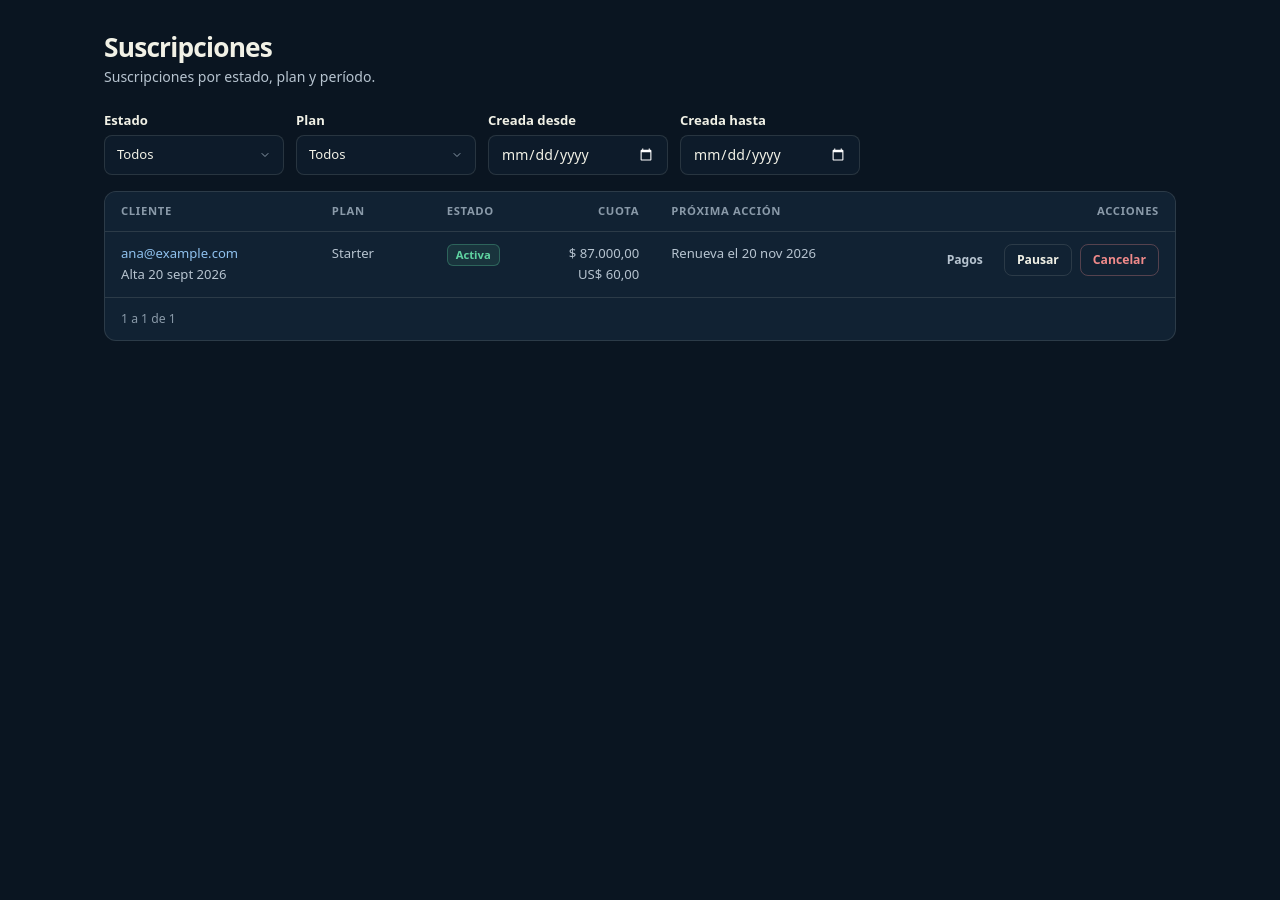
Test: buttons by role › says the cancellation stays asked for when Mercado Pago does not confirm it and reloads
The image size is (1280, 900).
Click the button with aria-label "Cancelar la suscripción" at (1119, 260), box [1080,244,1159,276]
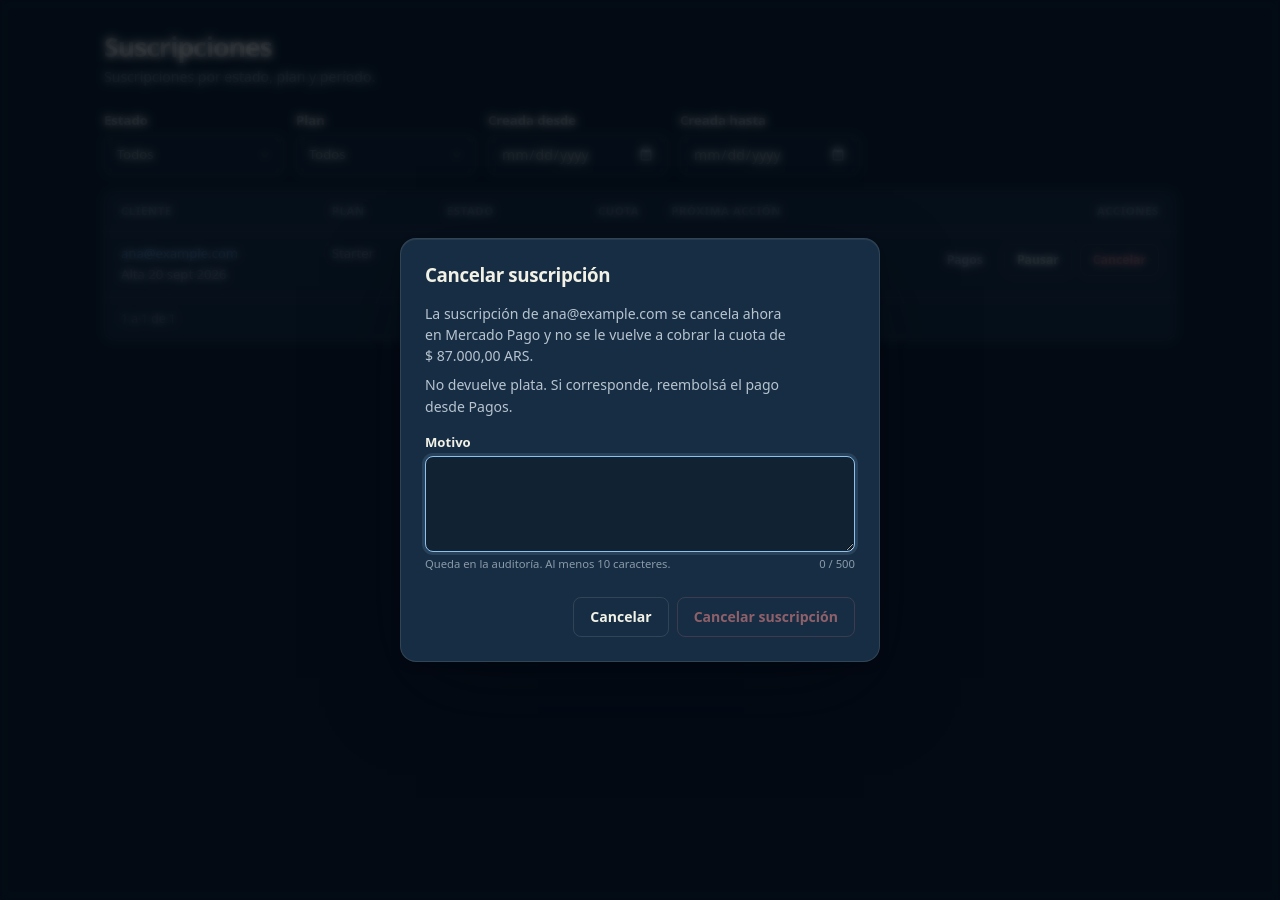
Type "Pedido del cliente por mail" into the text box labelled "Motivo" at (640, 504), box [425,456,855,552]
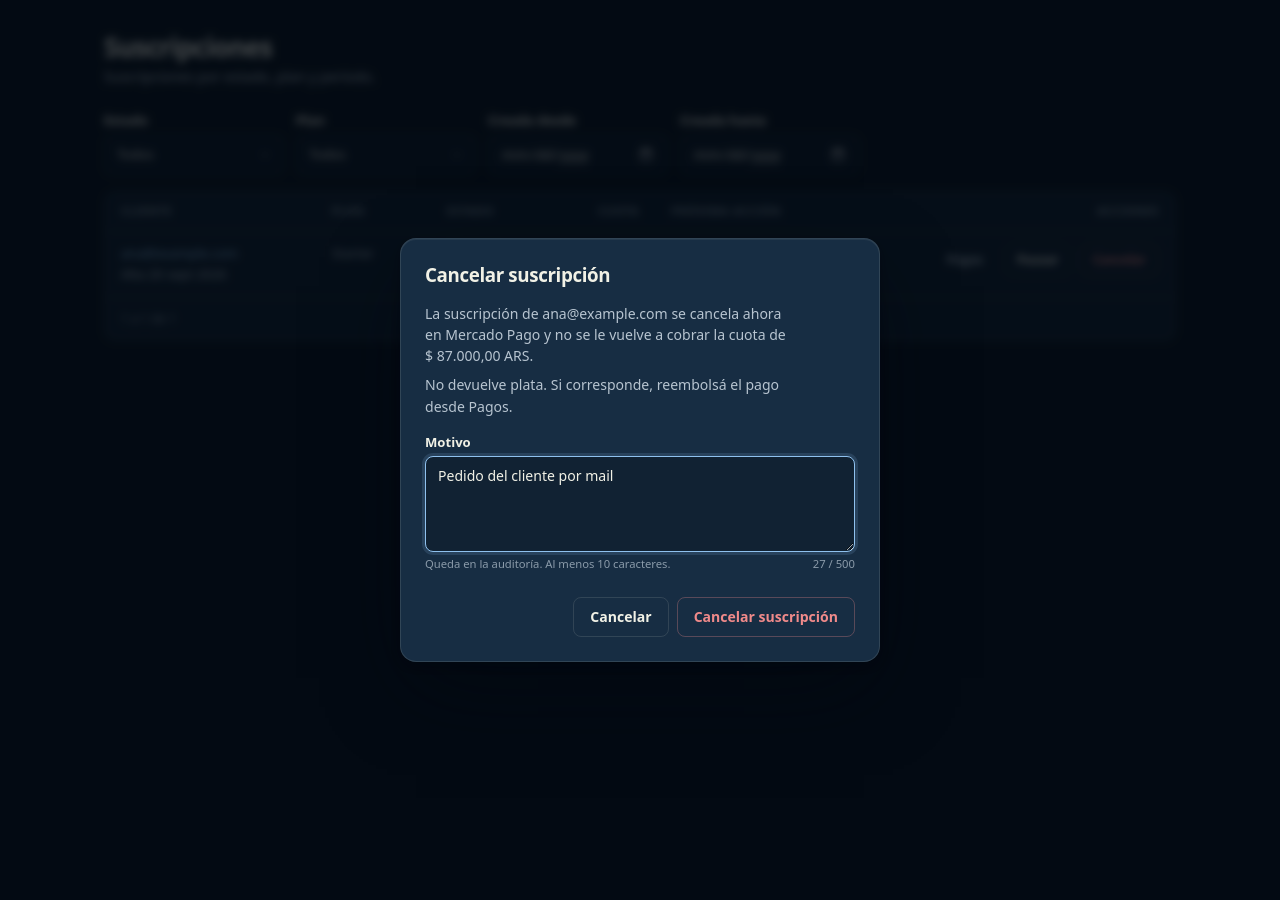
Click the button "Cancelar suscripción" at (766, 617), box [677,597,855,637]
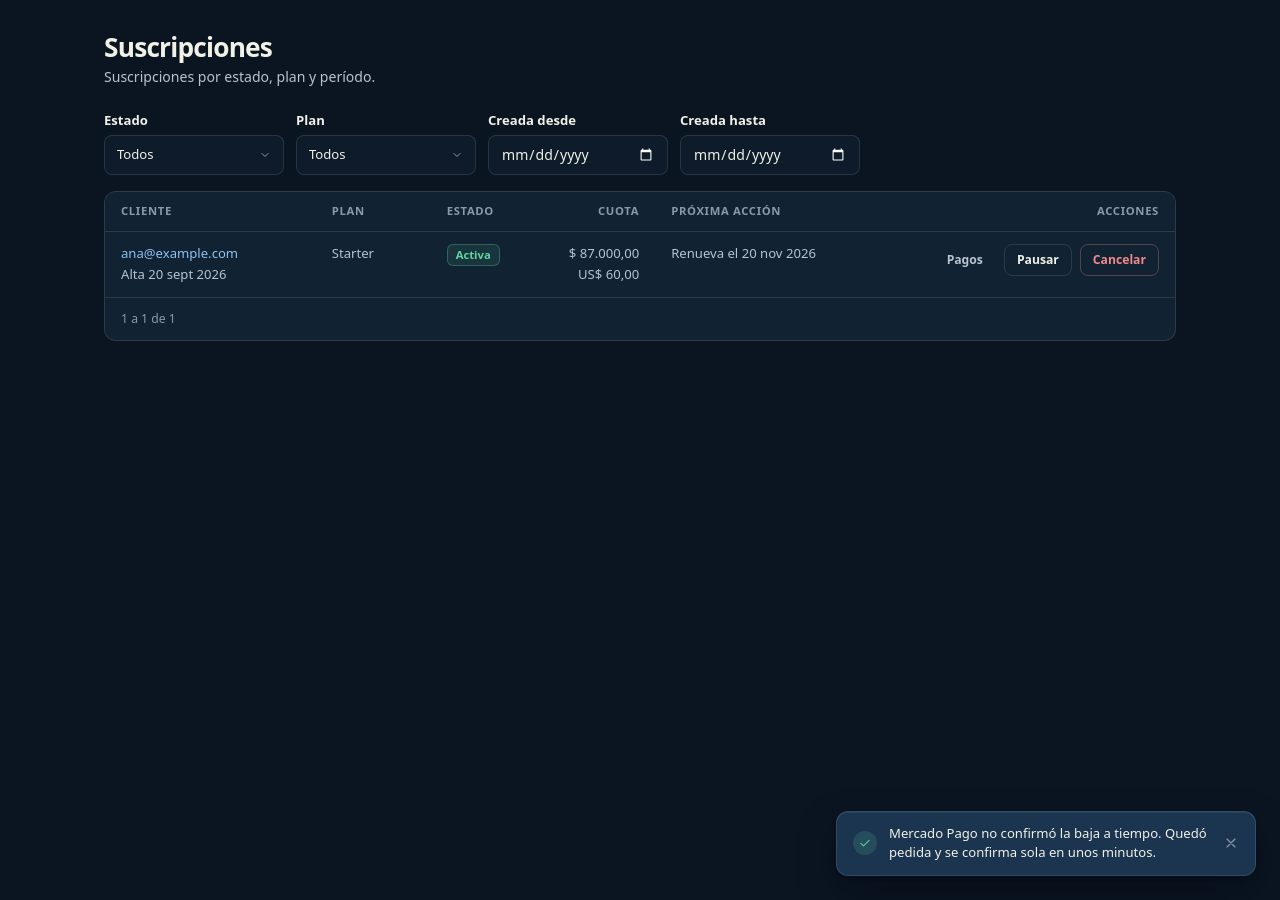
Expected: the text "Mercado Pago no confirmó la baja a tiempo. Quedó pedida y se confirma sola en unos minutos." is shown, [889,824,1207,861]
